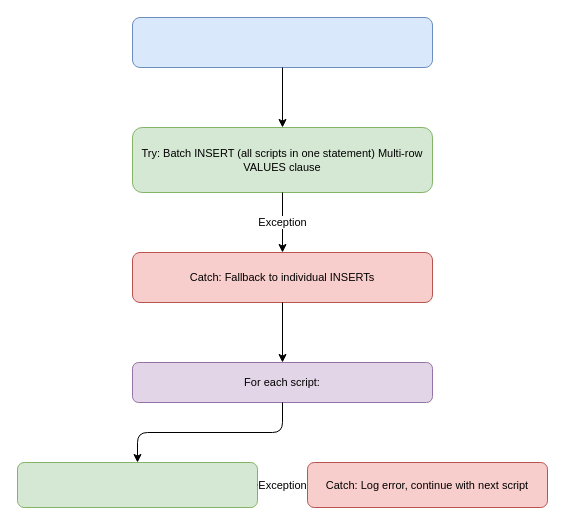
The diagram is 565 pixels wide and 525 high, and some of its shapes have lost their labels. The shapes that lost their labels are listed below. From the top down, each one's centre as x and y in pixels, then its label:
At (282,42): "LogCommittedScriptsToDatabase()".
At (137,485): "Try: Single parameterized INSERT".
